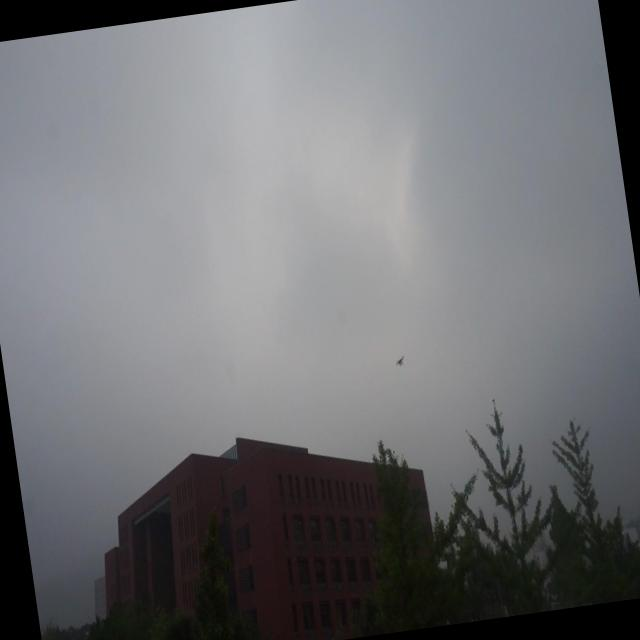drone: (392, 352, 408, 372)
